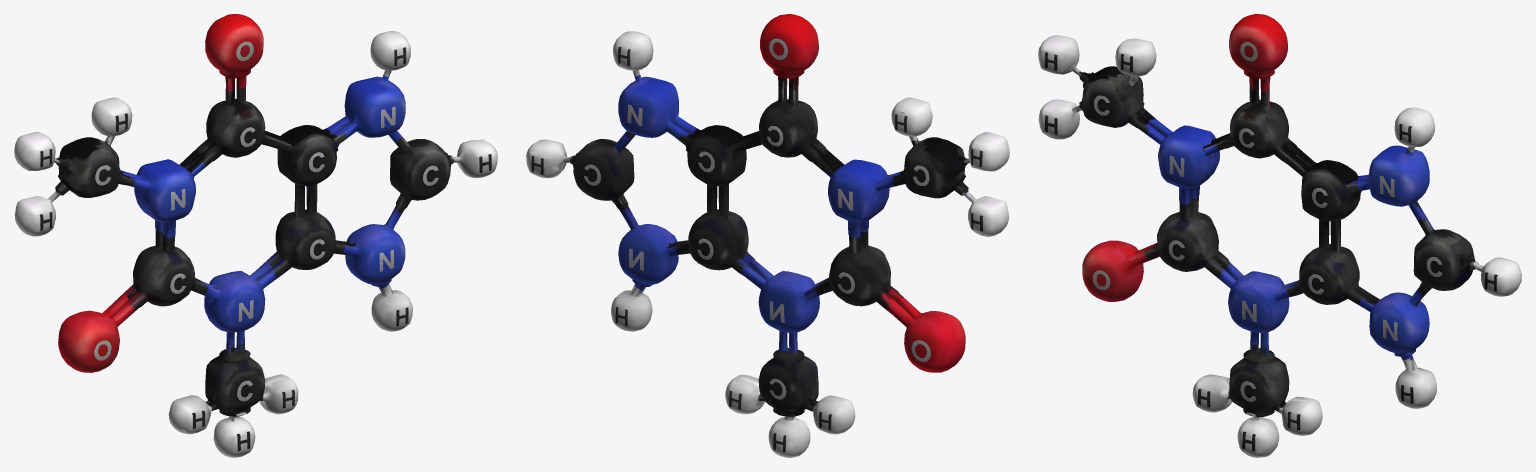
The model's file is caffeine.glb.
3 views of the same model, side by side, from view 1: azimuth 30°, elevation 25°; view 2: azimuth 150°, elevation 25°; view 3: azimuth 330°, elevation 25° (orthographic).
Visible parts, largest first — view 1: Mesh_0; view 2: Mesh_0; view 3: Mesh_0.
Boxes of the visible parts, left/top/right/bottom form: Mesh_0: left=14, top=14, right=497, bottom=457; Mesh_0: left=526, top=14, right=1009, bottom=457; Mesh_0: left=1038, top=14, right=1521, bottom=457.
Size of the model in its own units: 4.56 by 4 by 0.4286.
1 material, 1 textured.
